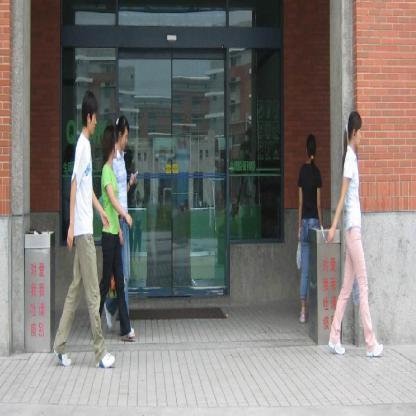person: (58, 90, 113, 376), (326, 113, 389, 361), (284, 134, 329, 327)
